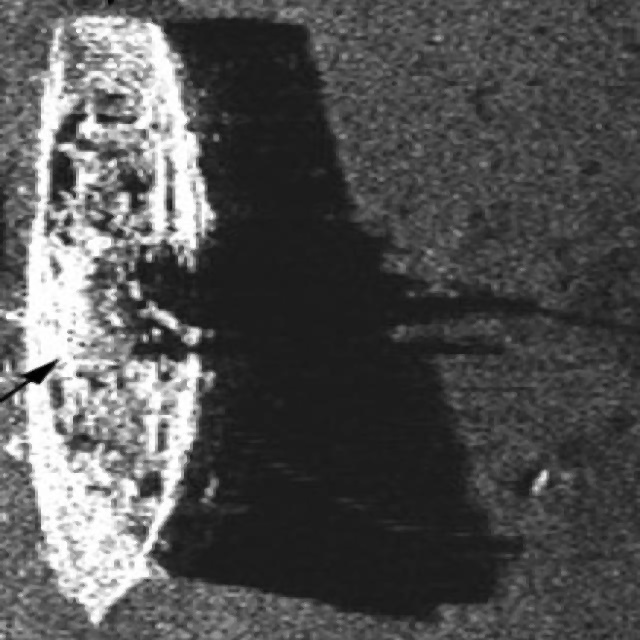Ship: (5, 5, 249, 638)
